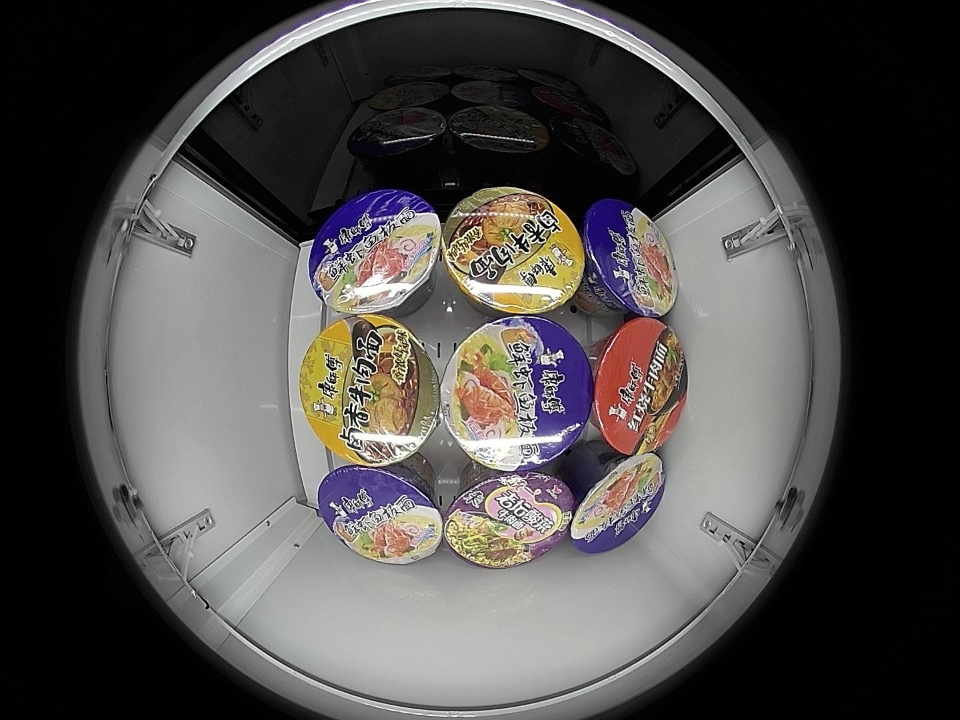hongshaoniurou: (591, 318, 687, 454)
laotansuancai: (442, 469, 575, 569)
luxiangniurou: (298, 315, 442, 466), (442, 187, 585, 316)
xianxiayuban: (442, 316, 594, 472), (308, 188, 442, 314), (316, 464, 444, 564), (583, 199, 677, 318), (569, 453, 666, 554)
